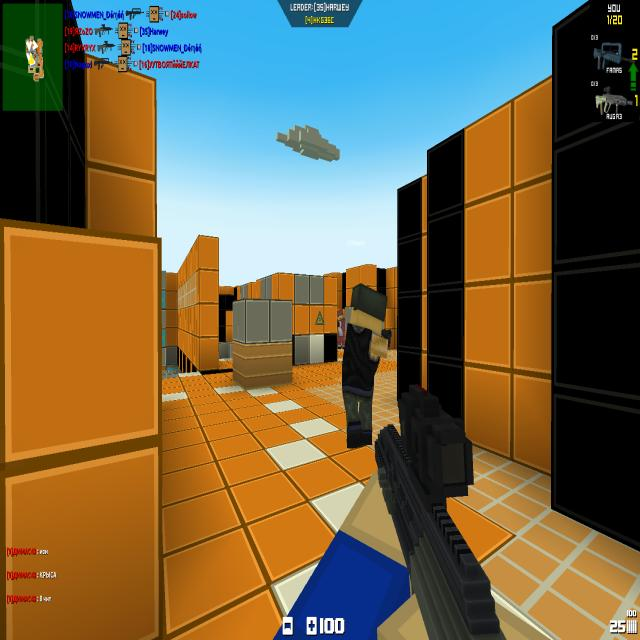enemy: (341, 282, 393, 448), (336, 308, 345, 350)
